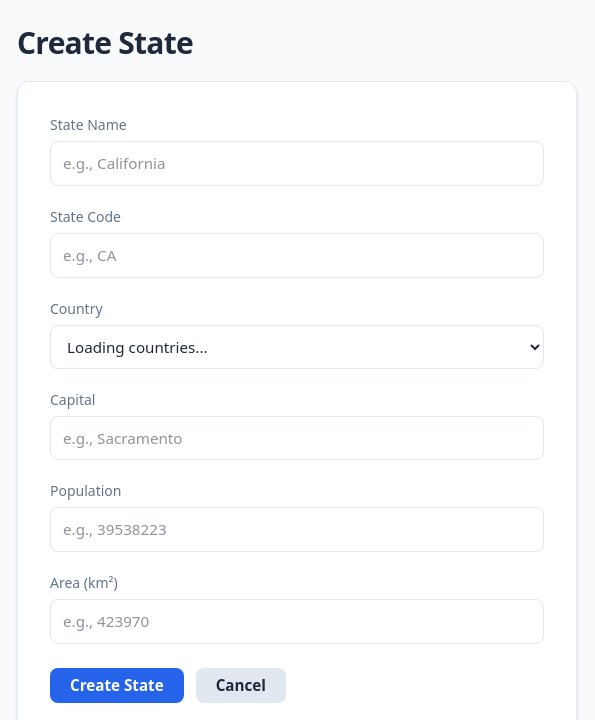
Test case: shows required field errors before submission, including country selection
Click the button "Create State": (117, 686) [50,668,184,703]
(page scrolled)
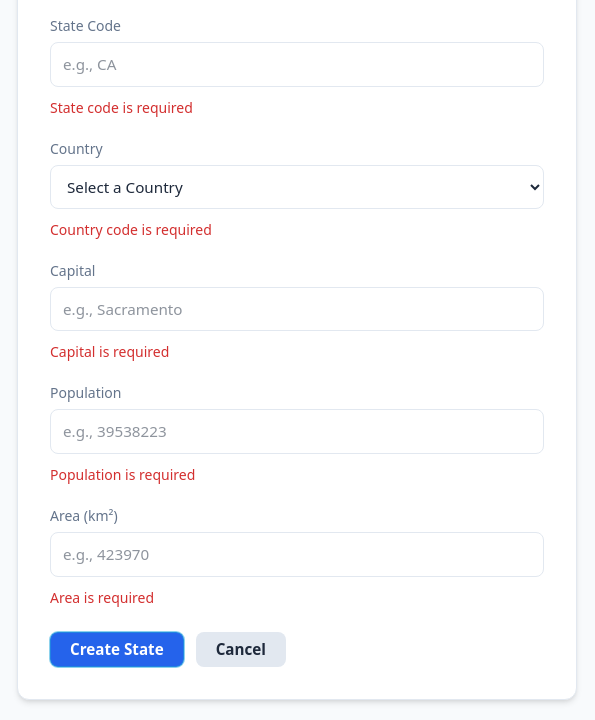
Expected: the text "State code is required" is shown, [50,98,193,117]
Expected: the text "Country code is required" is shown, [50,220,212,239]
Expected: the text "Capital is required" is shown, [50,342,169,361]
